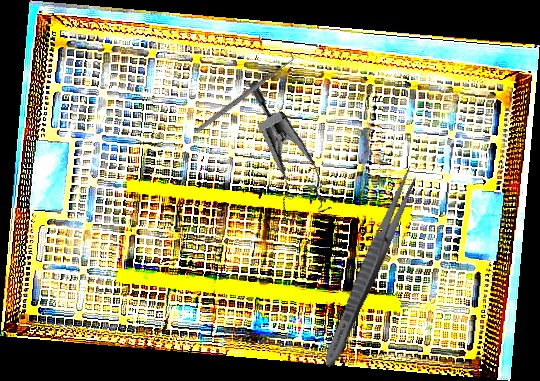Dressing Forceps: (318, 162, 423, 371)
Hook Surgical: (191, 51, 298, 135)
Speculum: (201, 79, 353, 237)
